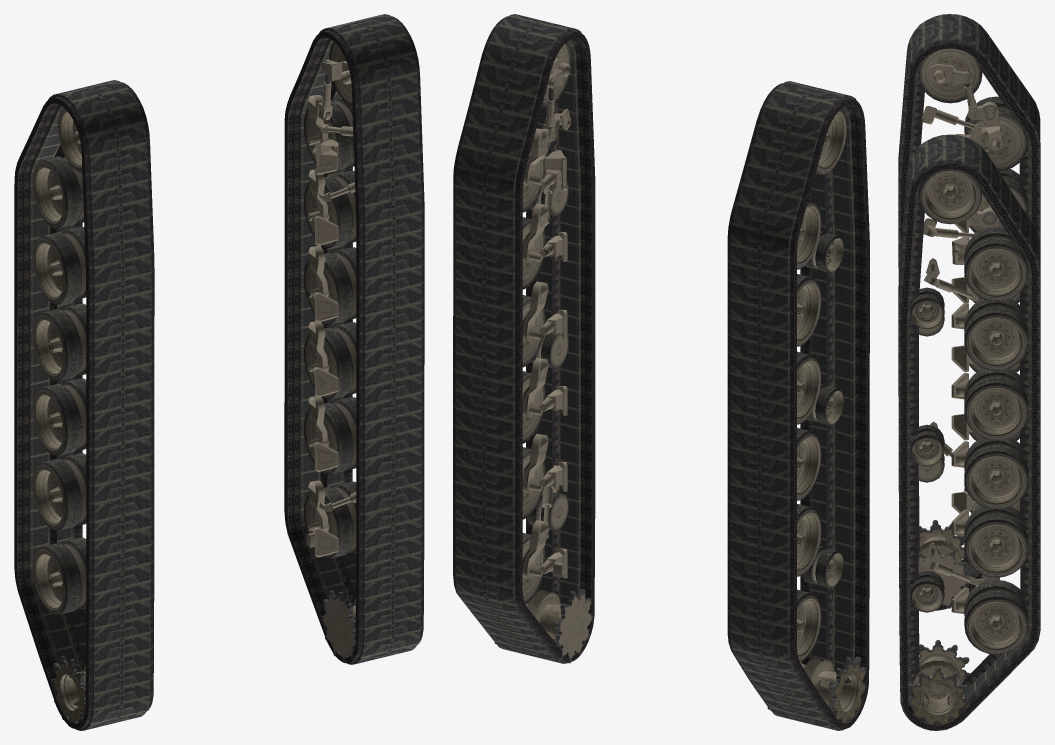
File: Chassis.glb
3 renders of one model, left to right at view 1: azimuth 30°, elevation 25°; view 2: azimuth 150°, elevation 25°; view 3: azimuth 270°, elevation 25°, orthographic. The views are drawn at different scales.
Parts seen in each view (by area): view 1: set_1_group_0, set_0_group_0, set_2_group_0, set_3_group_0; view 2: set_1_group_0, set_0_group_0, set_2_group_0, set_3_group_0; view 3: set_2_group_0, set_0_group_0, set_3_group_0, set_1_group_0.
Boxes of the visible parts, x1,y1,x2,y2 form: set_1_group_0: (14, 80, 154, 730); set_0_group_0: (284, 14, 424, 664); set_2_group_0: (304, 41, 357, 663); set_3_group_0: (32, 107, 86, 723); set_1_group_0: (727, 81, 869, 730); set_0_group_0: (453, 14, 595, 663); set_2_group_0: (494, 42, 593, 663); set_3_group_0: (767, 108, 865, 730); set_2_group_0: (907, 169, 1028, 729); set_0_group_0: (898, 134, 1040, 730); set_3_group_0: (918, 48, 1028, 608); set_1_group_0: (898, 14, 1040, 610).
Size of the model in its own units: 3.64 by 6.49 by 1.47.
4 materials, 4 textured.
